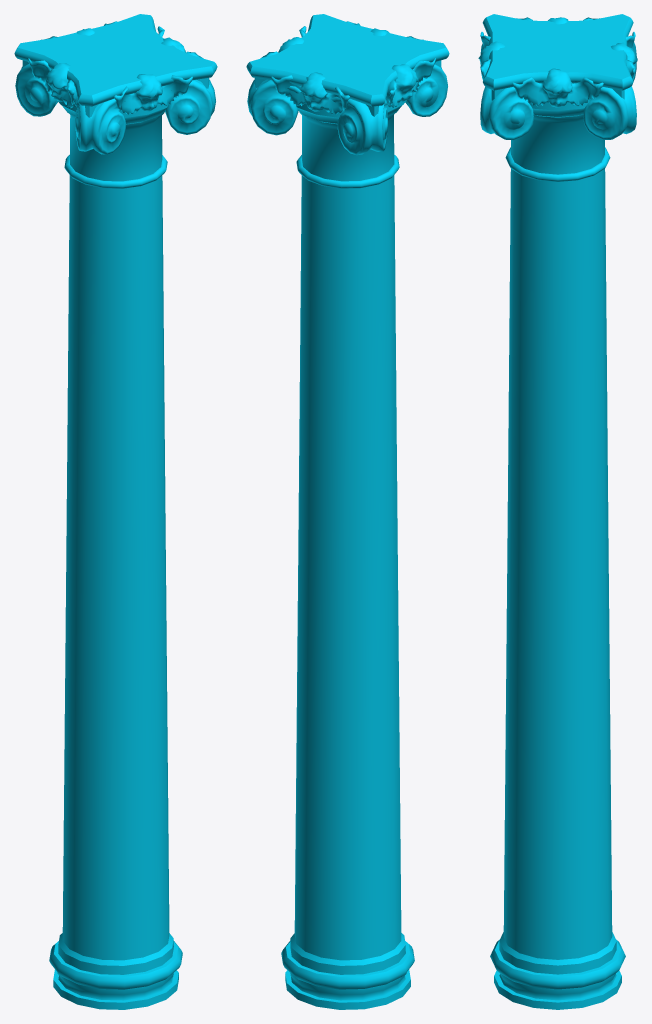
The model's file is Peter_Pillar06.FBX.
3 views of the same model, side by side, from view 1: azimuth 30°, elevation 25°; view 2: azimuth 150°, elevation 25°; view 3: azimuth 270°, elevation 25° (orthographic).
Visible parts, largest first — view 1: Box130; view 2: Box130; view 3: Box130.
Boxes of the visible parts, <box> form: Box130: <box>14,14,217,1009</box>; Box130: <box>246,14,449,1009</box>; Box130: <box>478,14,637,1009</box>.
Bounding box in the file's own units: 85.25 × 545 × 84.01.
